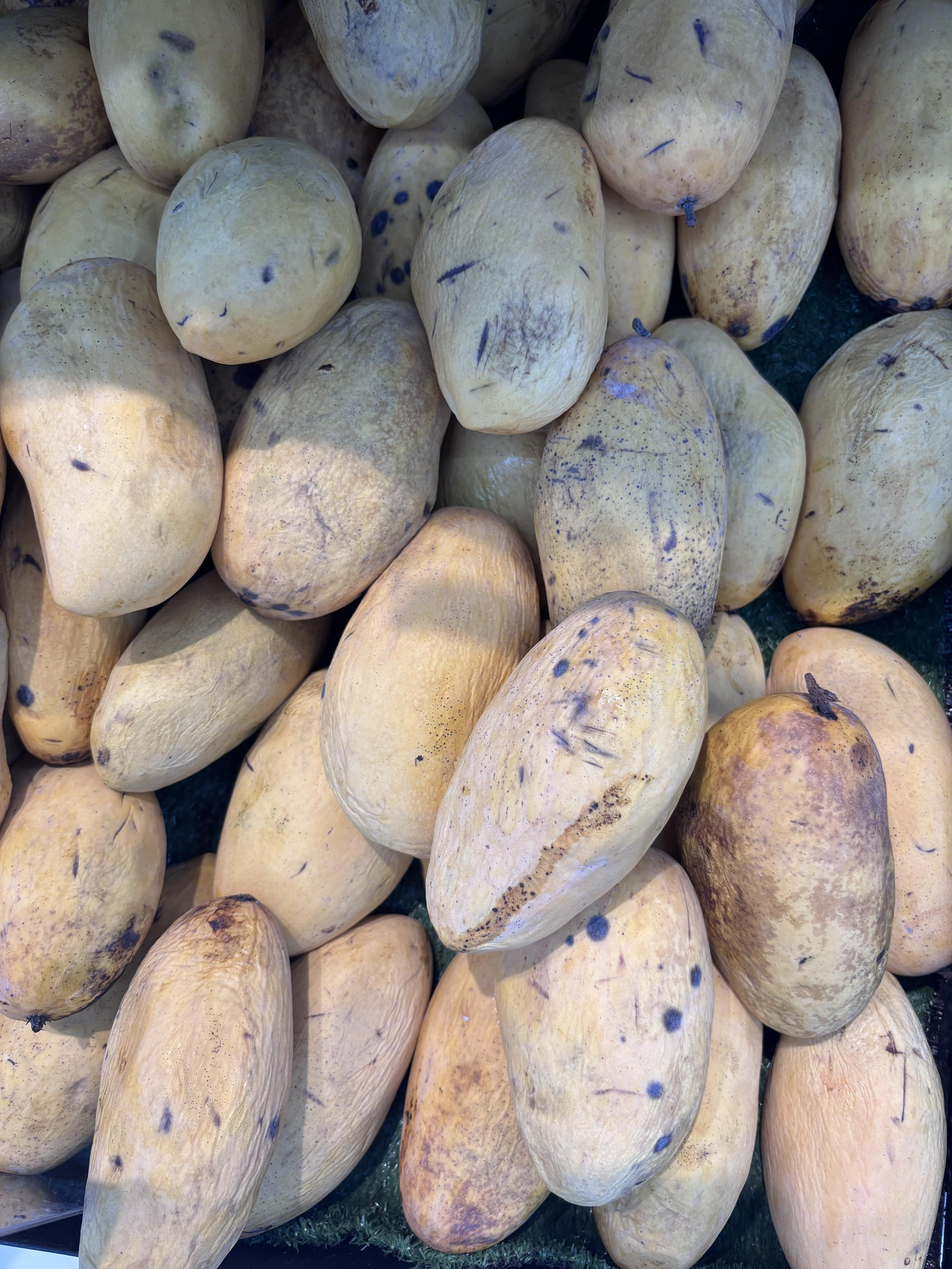mango: (427, 591, 707, 952), (675, 694, 894, 1038), (411, 117, 607, 433), (156, 137, 361, 364)
occluded: (79, 894, 292, 1269), (0, 258, 222, 617), (495, 849, 714, 1207), (212, 297, 450, 622), (320, 508, 539, 858), (767, 627, 952, 975), (243, 914, 432, 1235), (535, 328, 727, 637), (214, 670, 410, 957), (761, 973, 946, 1269), (783, 309, 952, 625), (91, 572, 329, 792), (595, 968, 763, 1269), (677, 46, 841, 350), (579, 0, 796, 224), (399, 952, 549, 1253), (0, 759, 165, 1030), (656, 318, 805, 611), (0, 481, 146, 765), (836, 0, 952, 313), (88, 0, 264, 190), (356, 92, 491, 302), (0, 964, 135, 1174), (247, 0, 383, 204), (300, 0, 483, 128), (20, 145, 168, 299), (436, 417, 548, 616), (0, 8, 111, 184), (468, 0, 586, 107), (603, 183, 675, 347), (136, 853, 216, 963), (702, 612, 765, 729), (525, 59, 586, 132), (0, 610, 12, 823), (0, 184, 29, 271), (565, 934, 574, 947)
